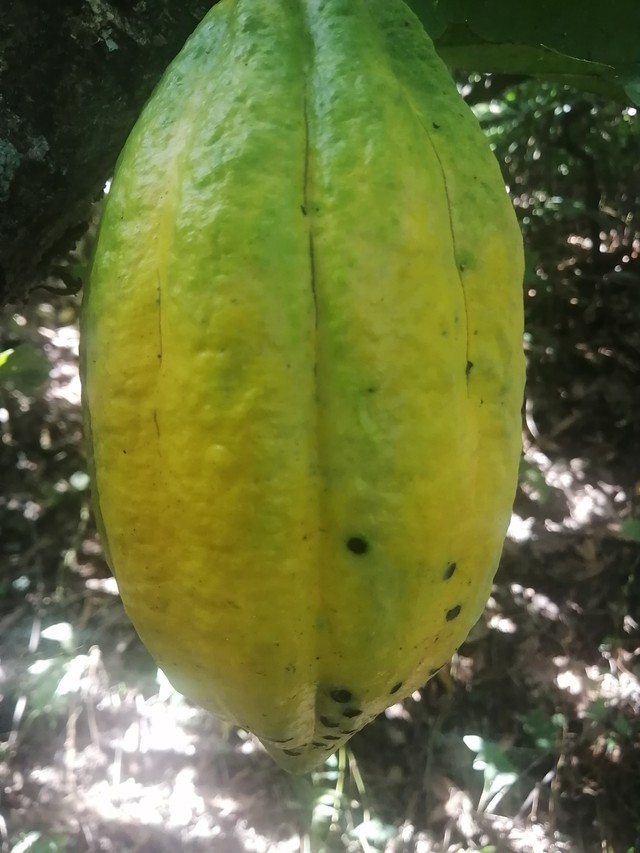Health: (53, 0, 545, 788)
